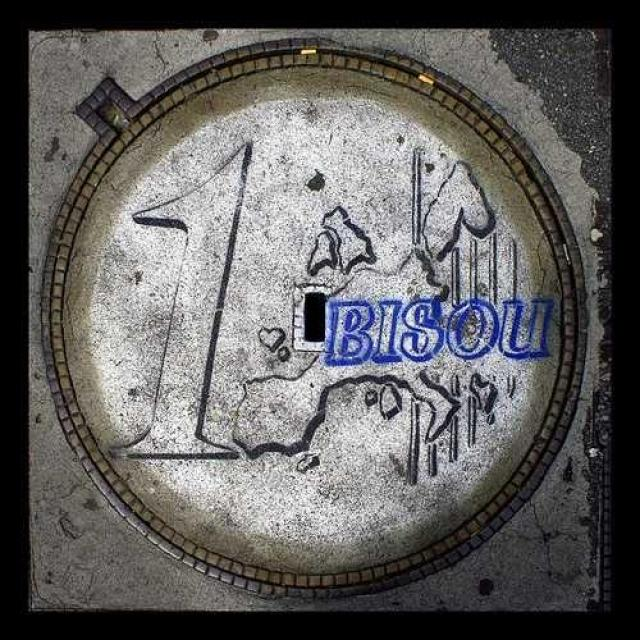manhole: (38, 38, 584, 596)
